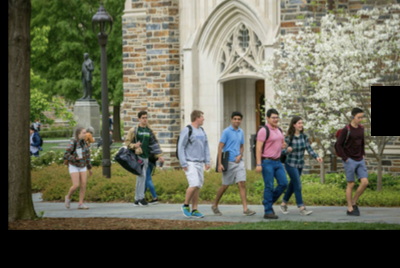without_mask: (269, 113, 279, 124), (354, 113, 364, 124), (233, 115, 242, 127), (295, 119, 304, 130), (141, 114, 148, 124), (199, 113, 205, 124), (81, 129, 87, 138)
